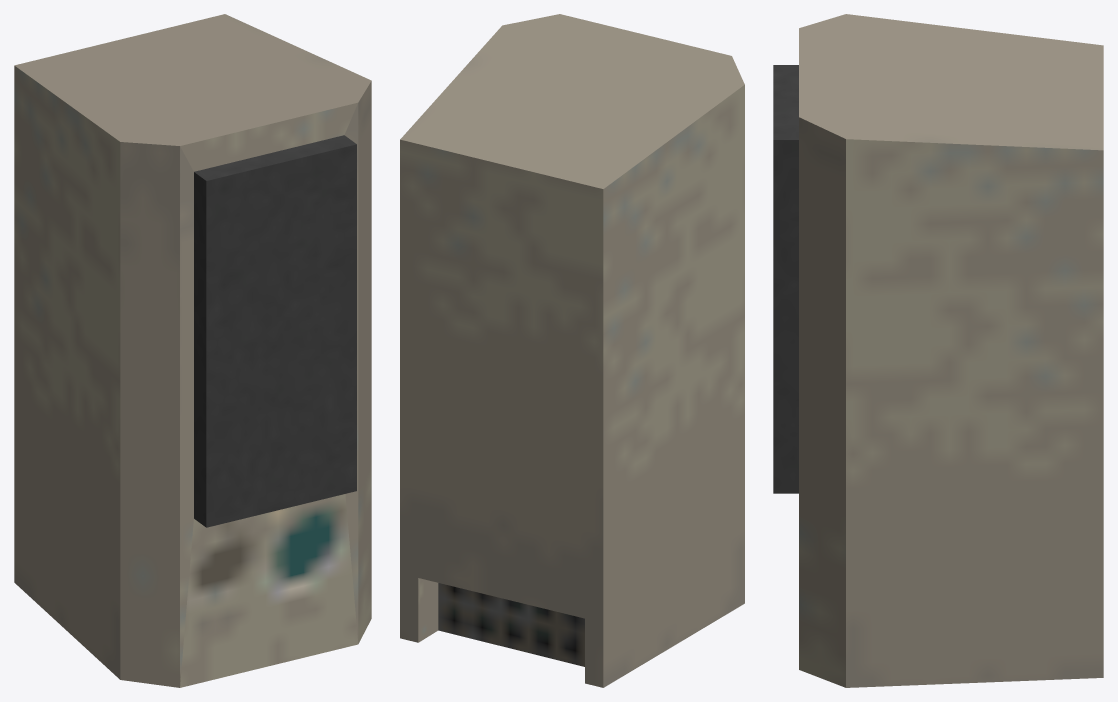
Rendered from Speaker.fbx.
The picture shows the model from 3 angles, left to right: view 1: azimuth 30°, elevation 25°; view 2: azimuth 150°, elevation 25°; view 3: azimuth 270°, elevation 25°; orthographic projection. The views are drawn at different scales.
Visible parts, largest first — view 1: Speaker; view 2: Speaker; view 3: Speaker.
Part boxes in pixels (x1,y1,x2,y2): Speaker: (14,14,371,687); Speaker: (400,14,744,687); Speaker: (773,14,1103,687).
Size of the model in its own units: 0.0815 by 0.1678 by 0.0909.
Materials: 1 (1 with a texture image).
